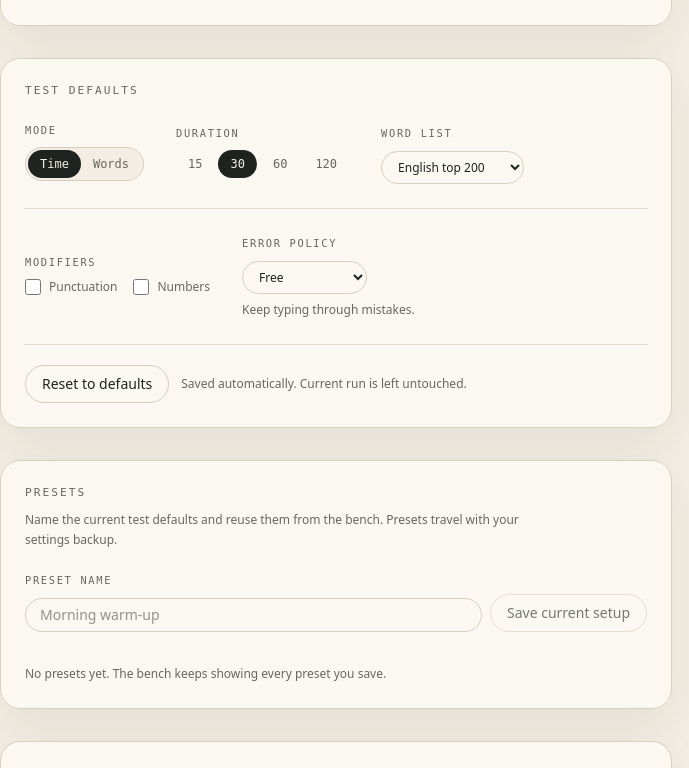
Test: settings page › cancels a pending reset
The image size is (689, 768).
(page scrolled)
Click the button "Reset to defaults" at (97, 384), box [25, 365, 169, 403]
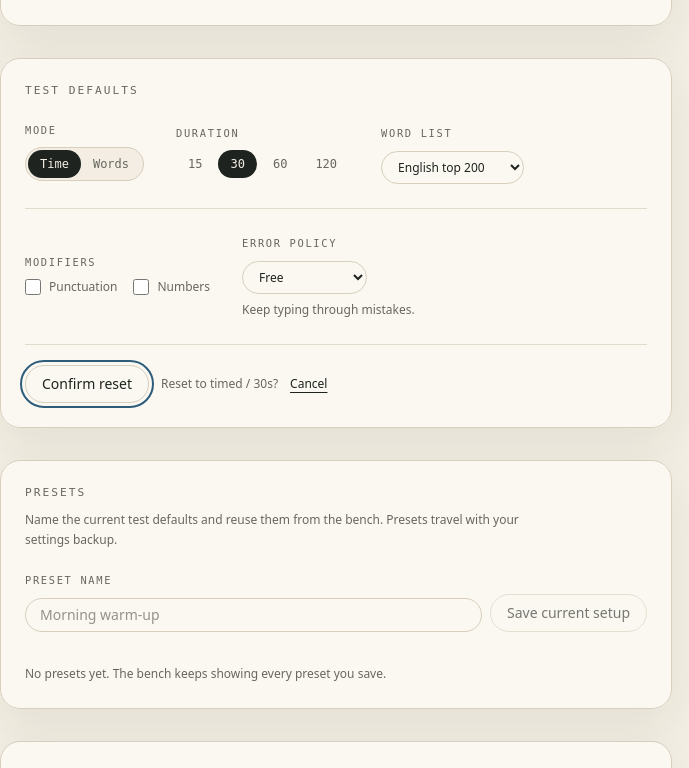
Click the button "Cancel" at (309, 384), box [290, 376, 328, 392]
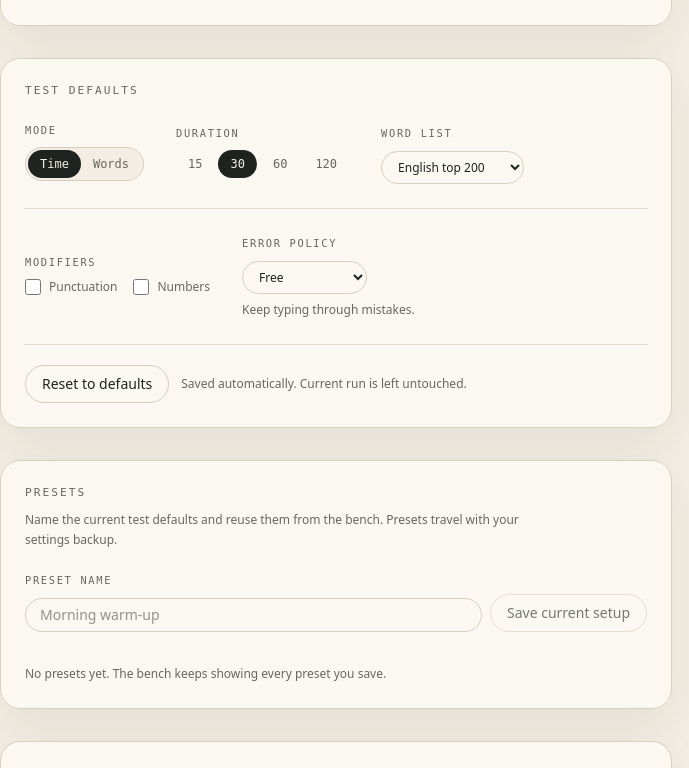
Result: the button "Reset to defaults" is shown at [25, 365, 169, 403]
